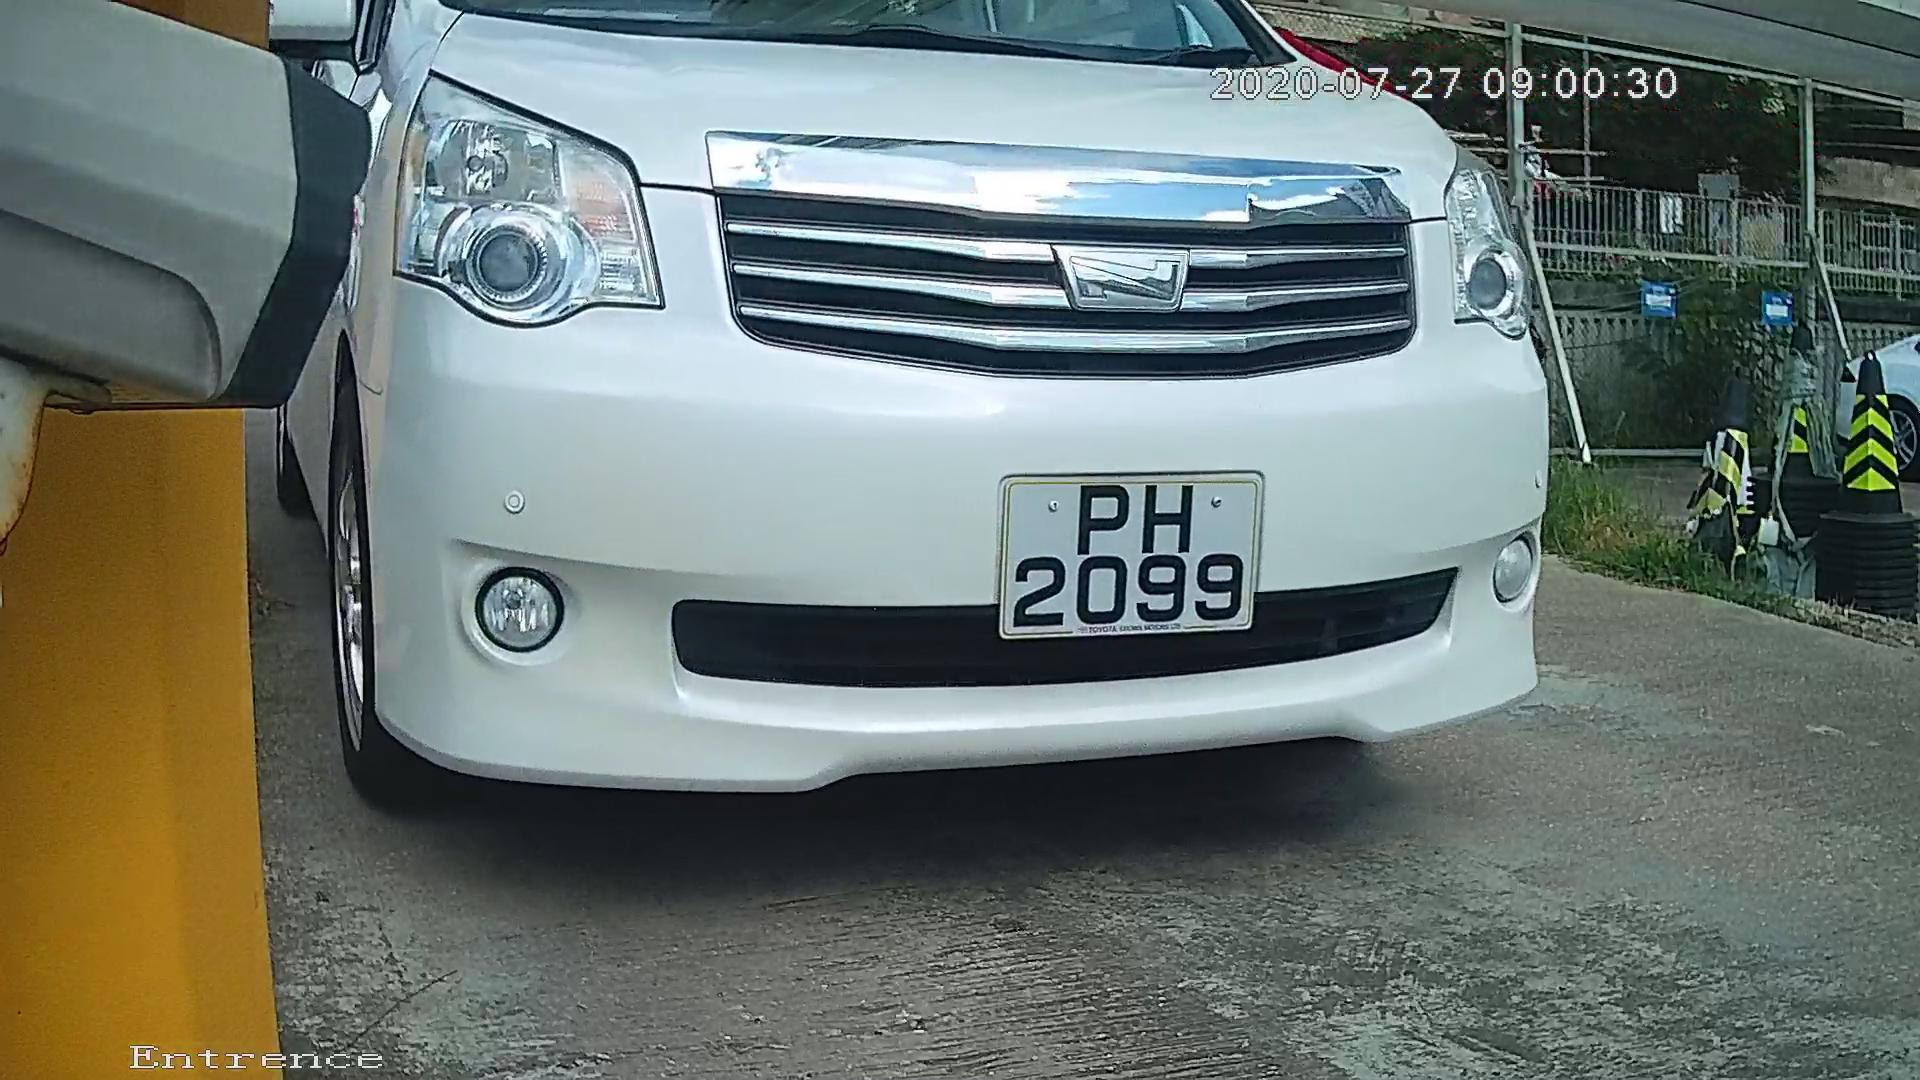Car: (129, 44, 1646, 849)
License Plate: (969, 459, 1269, 651)
